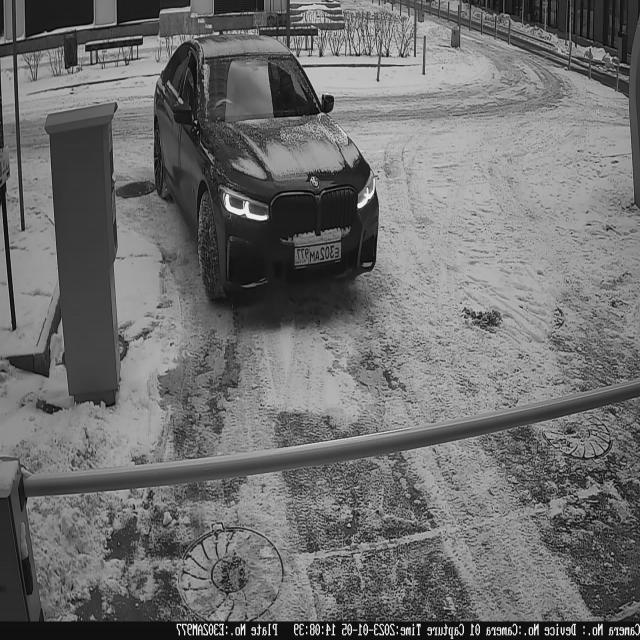car-plate-numbers: (292, 239, 344, 273)
